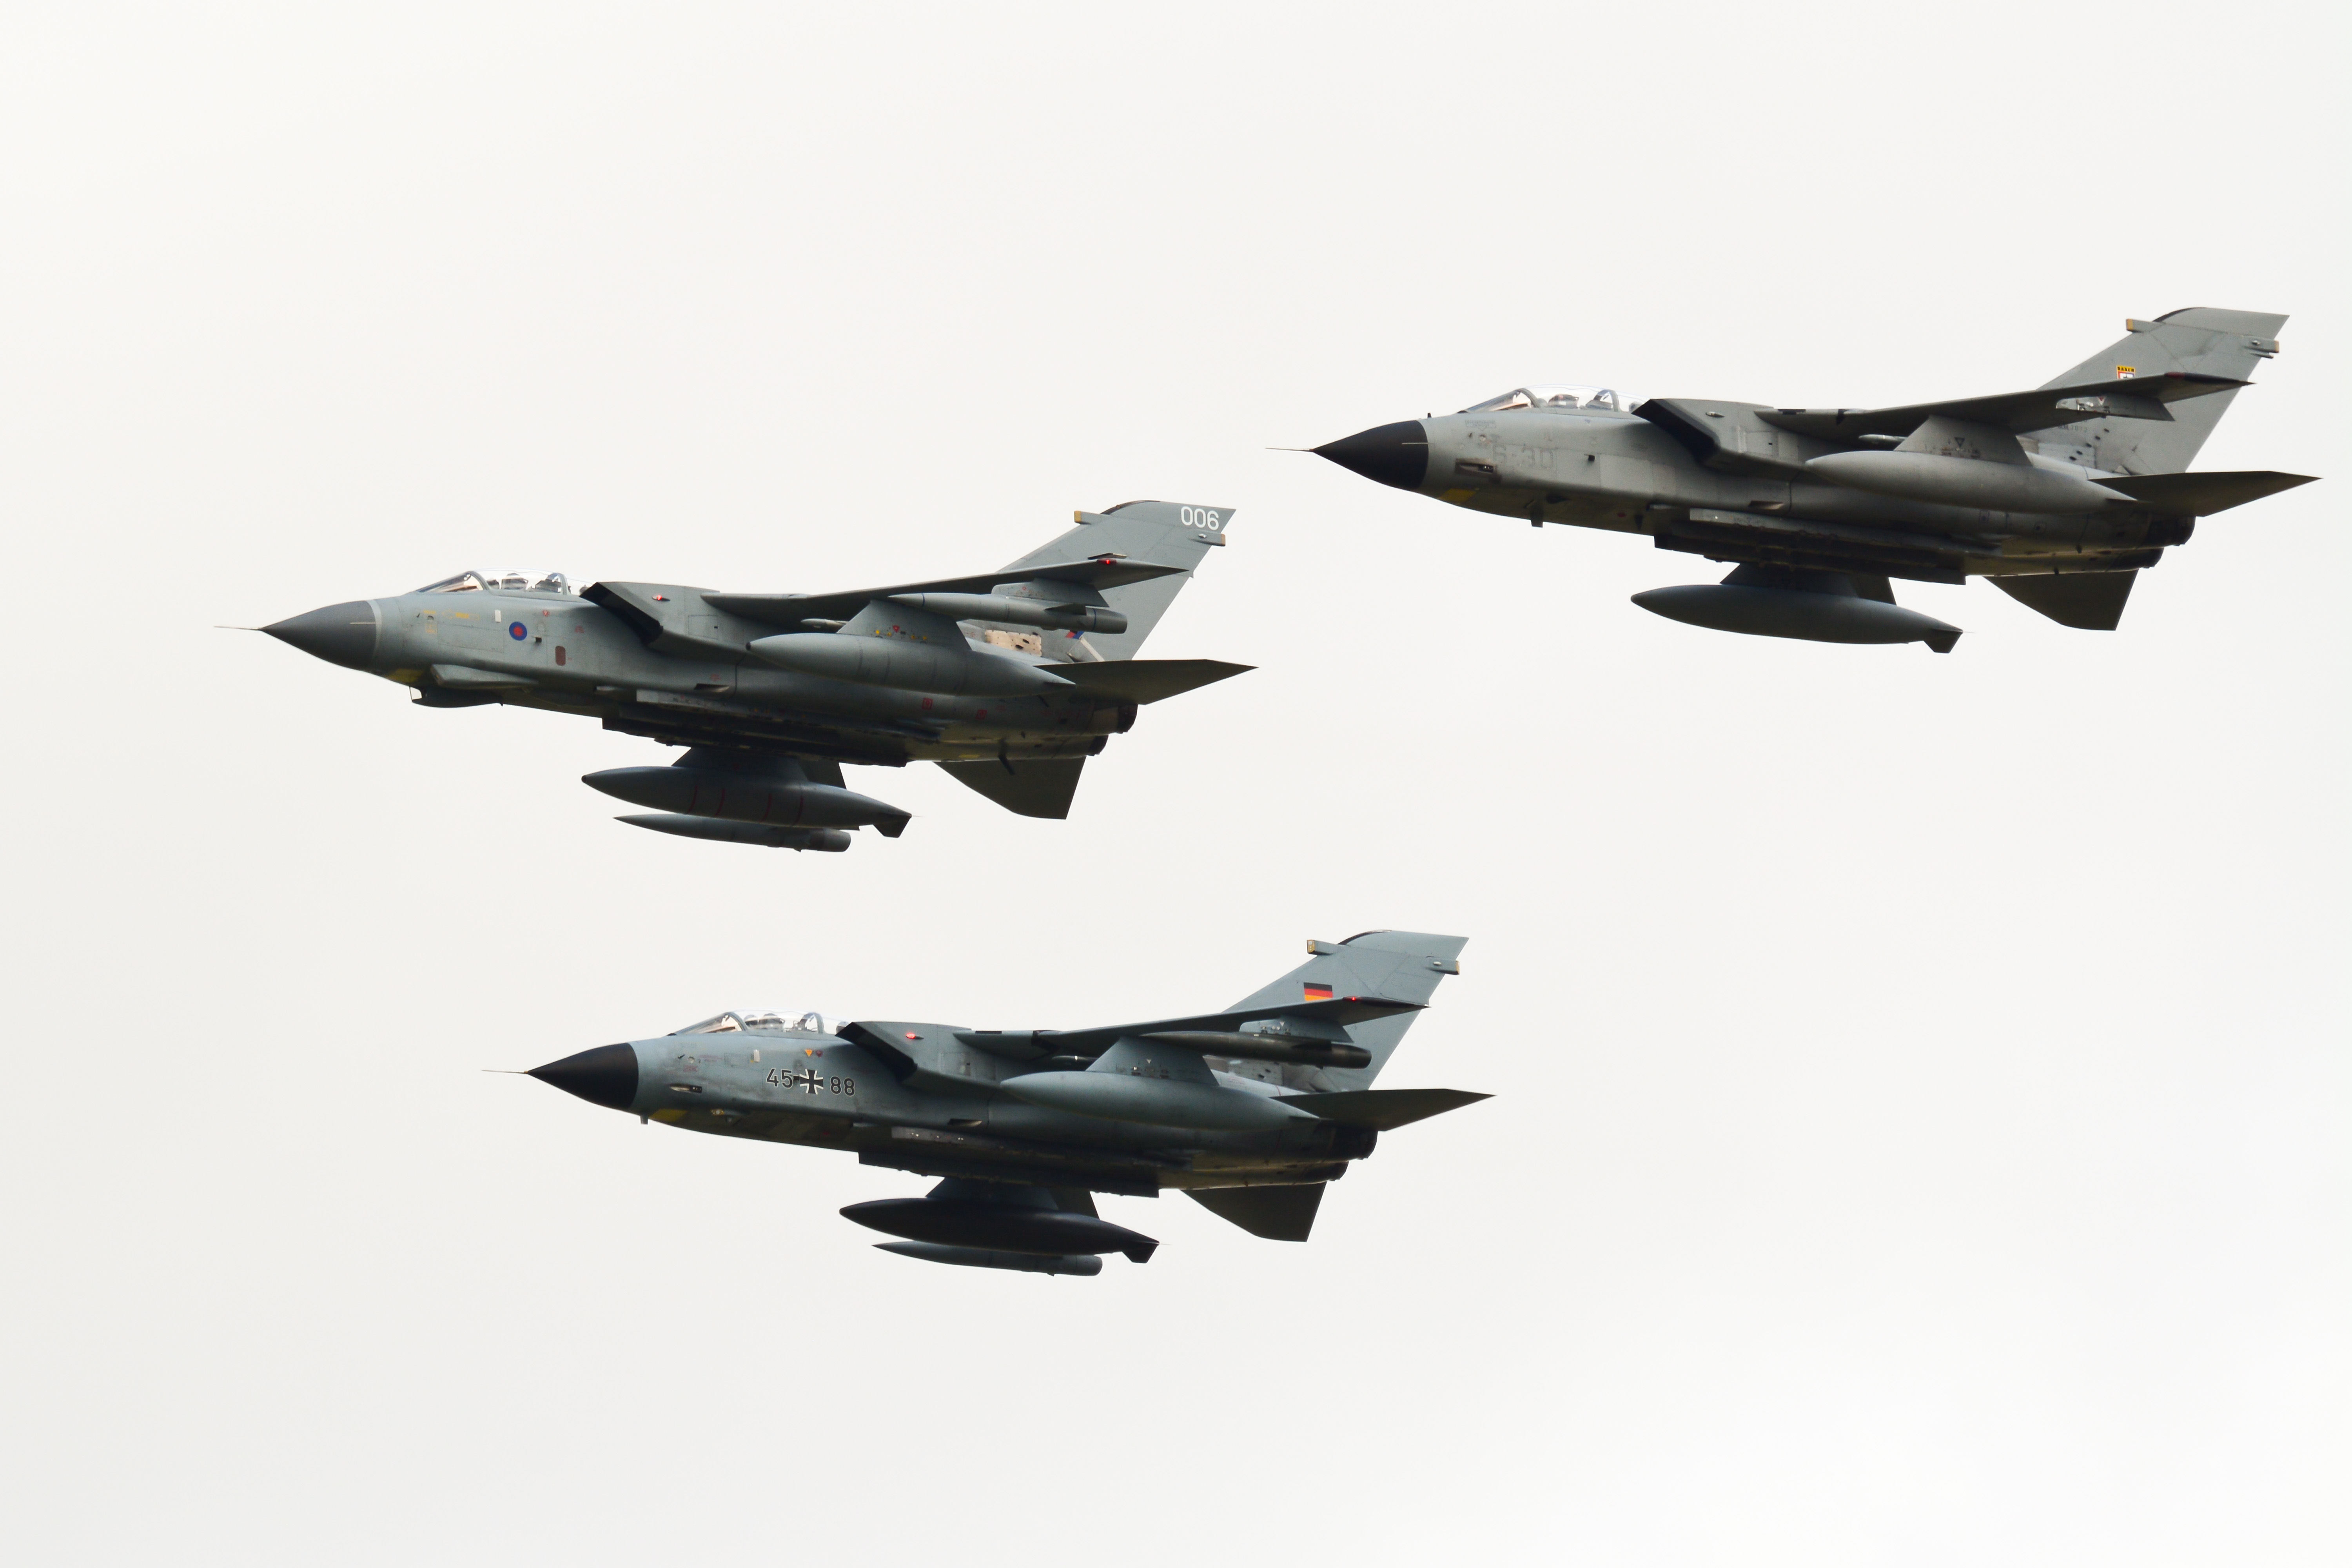Tornado: (213, 499, 1260, 852), (1265, 306, 2324, 654), (481, 929, 1498, 1276)
